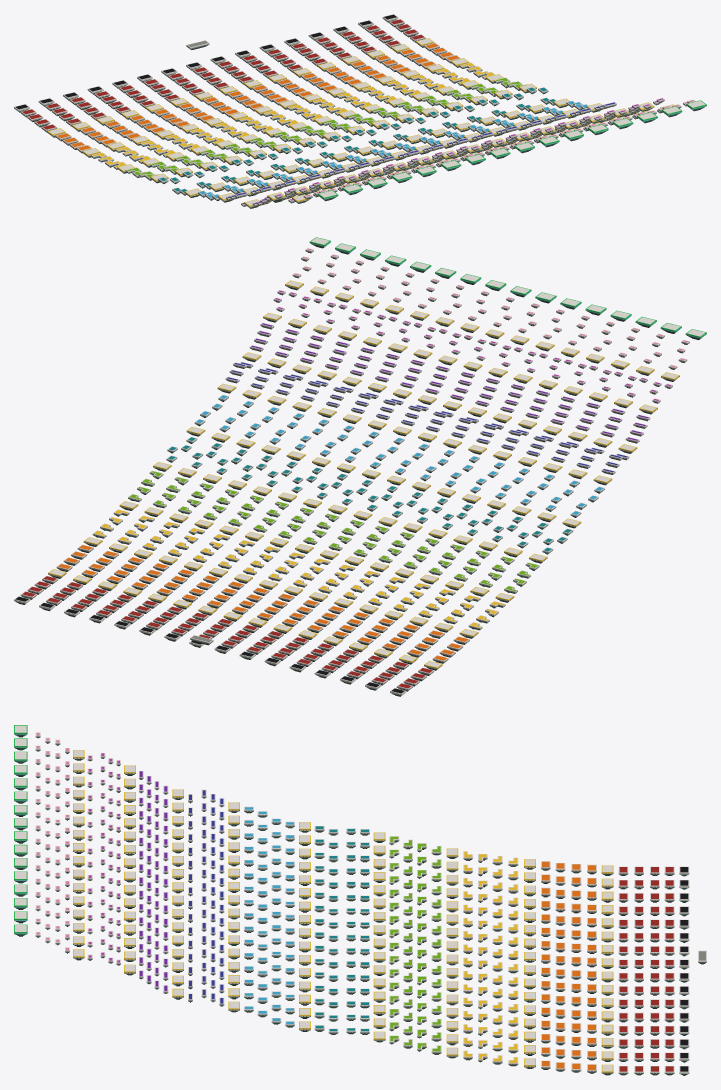
File: minecraft.obj
3 views of the same model, one above another, from view 1: azimuth 30°, elevation 25°; view 2: azimuth 150°, elevation 25°; view 3: azimuth 270°, elevation 25° (orthographic). The views are drawn at different scales.
Size of the model in its own units: 507 by 168 by 705.
